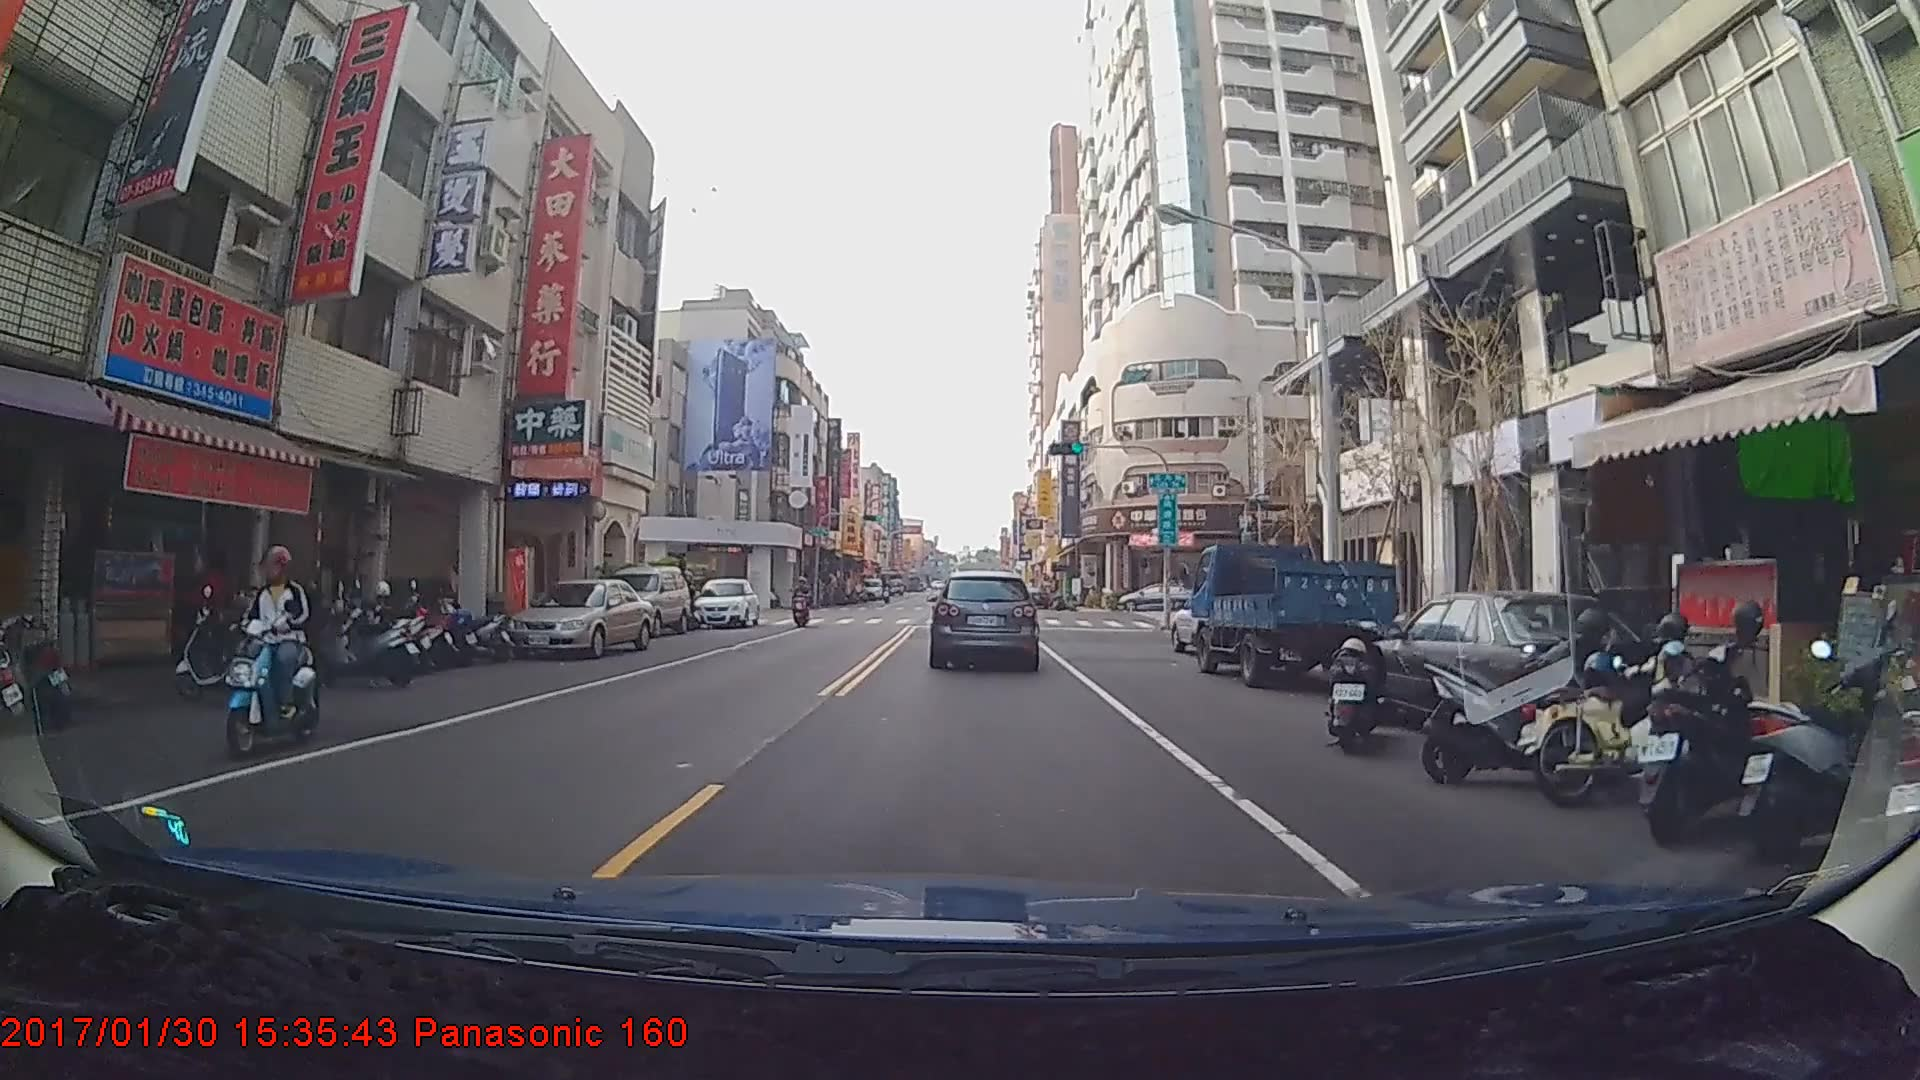rider: (216, 540, 326, 757), (791, 578, 814, 627)
vehicle: (1188, 543, 1397, 686), (501, 576, 650, 658), (929, 571, 1039, 669), (596, 562, 692, 639), (693, 576, 760, 628), (1118, 580, 1196, 612), (859, 576, 884, 600)
